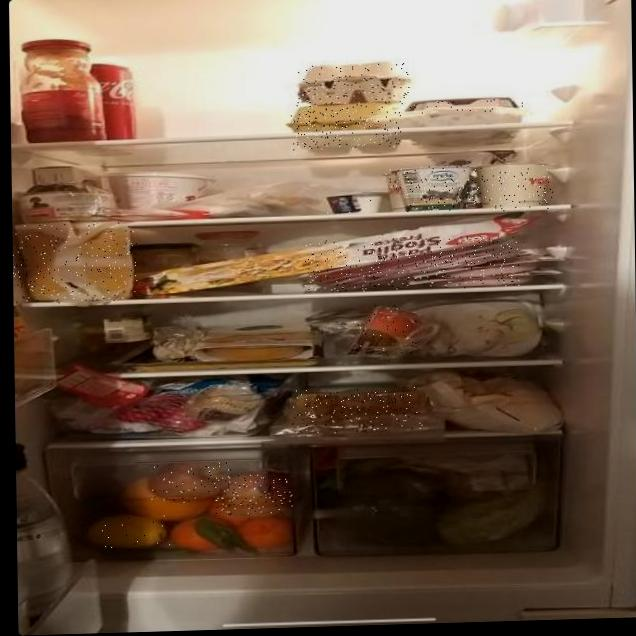apple: (151, 460, 232, 504), (216, 474, 294, 516)
cheese: (11, 222, 138, 305), (292, 387, 423, 435), (354, 303, 420, 365)
eggs: (291, 100, 403, 150), (295, 63, 409, 103), (409, 99, 524, 114)
ham: (305, 235, 522, 293)
lemon: (86, 515, 171, 550)
yoghurt: (385, 165, 473, 214), (473, 164, 553, 212), (327, 190, 407, 217)
